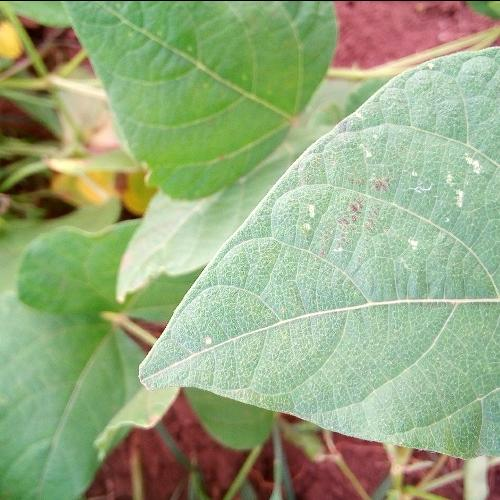hawar: (270, 110, 492, 276), (196, 318, 246, 352)
